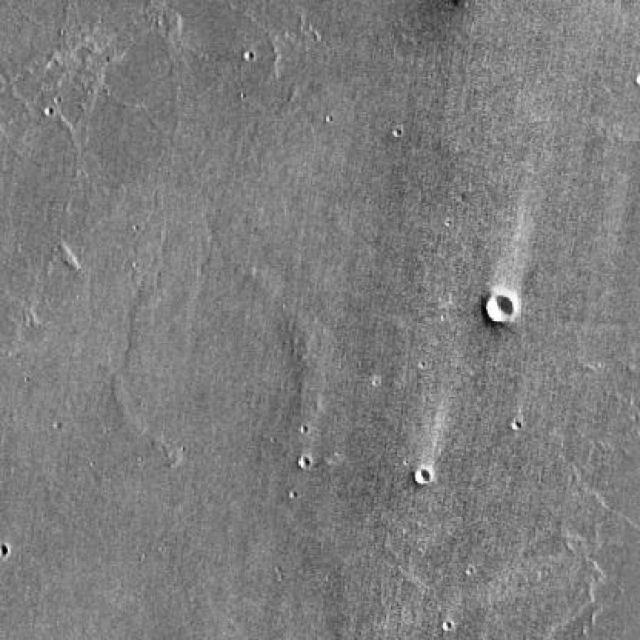crater: (487, 297, 513, 321)
